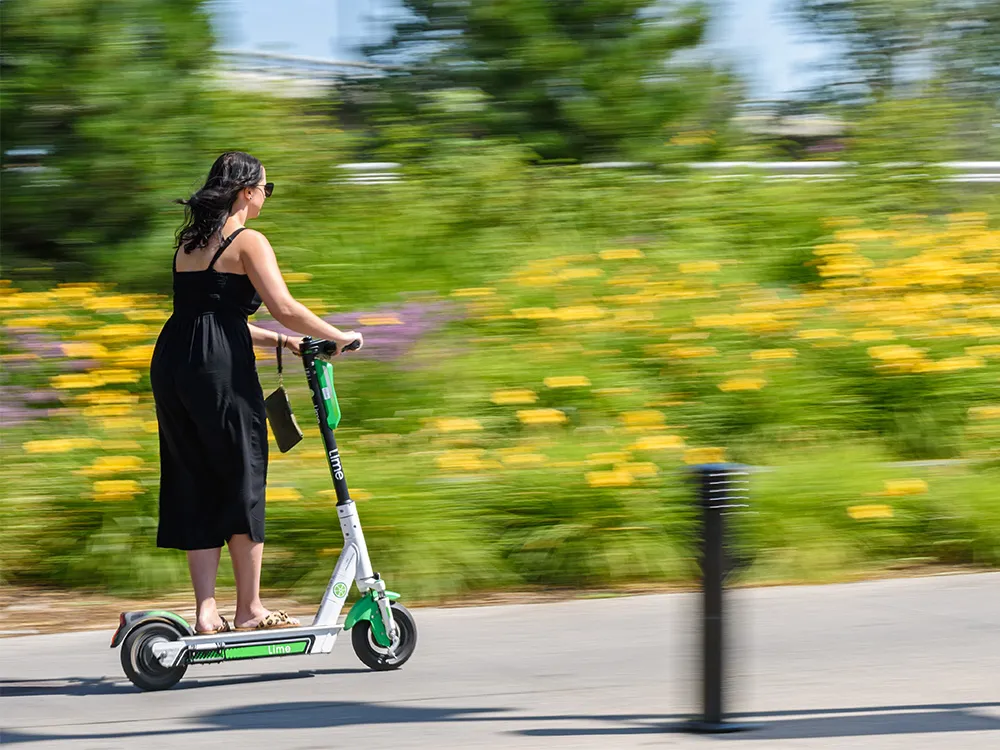scooter: (108, 331, 417, 687)
